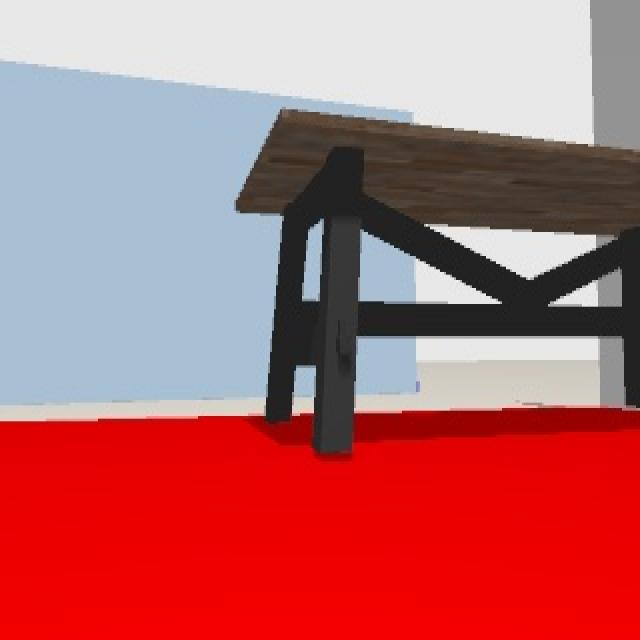dining: (235, 104, 640, 454)
